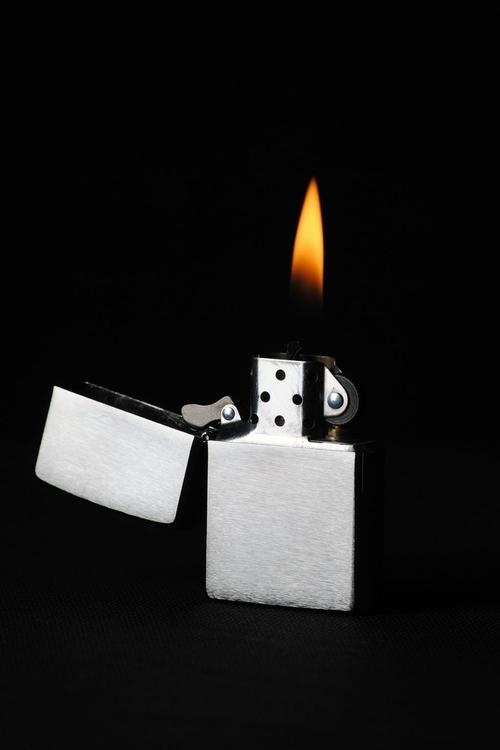fire: (290, 171, 326, 301)
